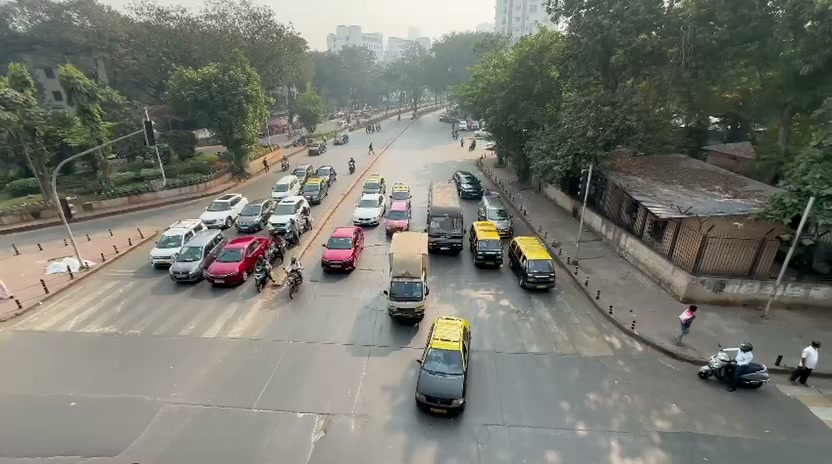bus: (385, 231, 430, 322)
car: (414, 317, 471, 416), (203, 235, 275, 288), (168, 227, 226, 284), (150, 222, 205, 269), (320, 225, 365, 274), (200, 193, 249, 229), (265, 205, 310, 243), (478, 192, 514, 235), (263, 212, 301, 244), (351, 194, 386, 228), (383, 199, 412, 237), (235, 203, 266, 234), (452, 170, 483, 199), (300, 176, 329, 205)
motorcycle: (286, 261, 304, 299)
pedestrian: (790, 341, 821, 386), (677, 303, 698, 344), (12, 243, 20, 256)
truck: (385, 231, 431, 324), (426, 181, 465, 254), (507, 235, 557, 291), (427, 203, 465, 254), (470, 220, 504, 269)
